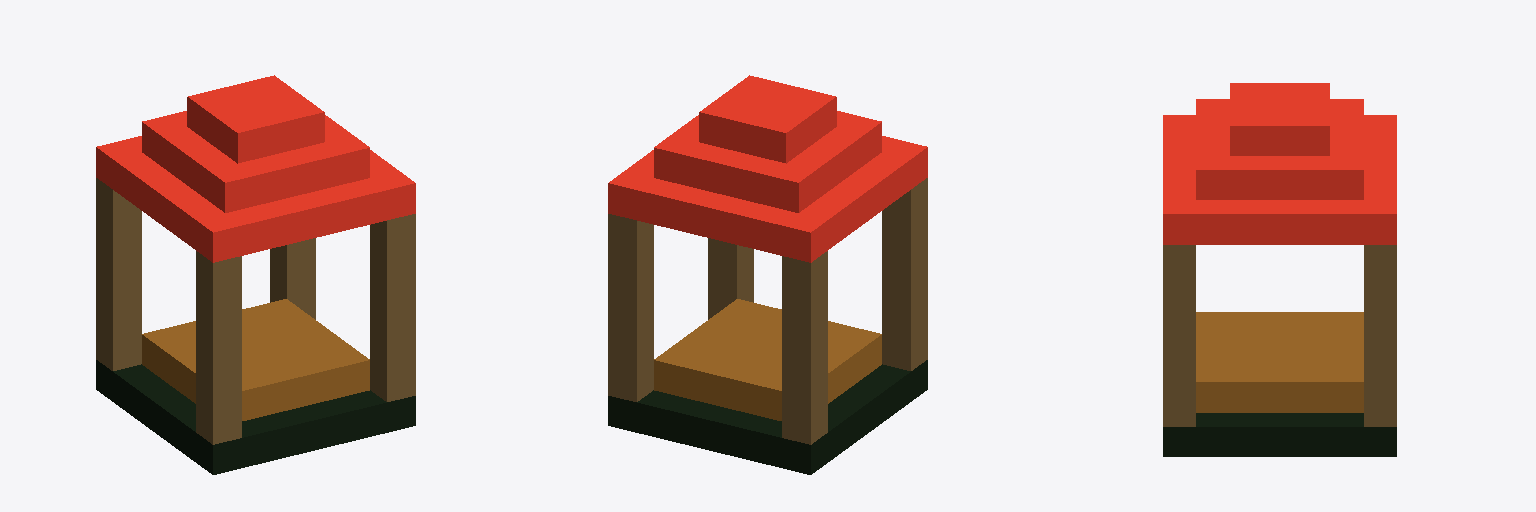
3 views of the same model, side by side, from view 1: azimuth 30°, elevation 25°; view 2: azimuth 150°, elevation 25°; view 3: azimuth 270°, elevation 25° (orthographic).
Parts seen in each view (by area): view 1: testMarker; view 2: testMarker; view 3: testMarker.
Boxes of the visible parts, <box> form: testMarker: <box>96,75,415,474</box>; testMarker: <box>608,75,927,474</box>; testMarker: <box>1163,83,1396,456</box>.
Size of the model in its own units: 7 by 10 by 7.
Materials: 1 (1 with a texture image).